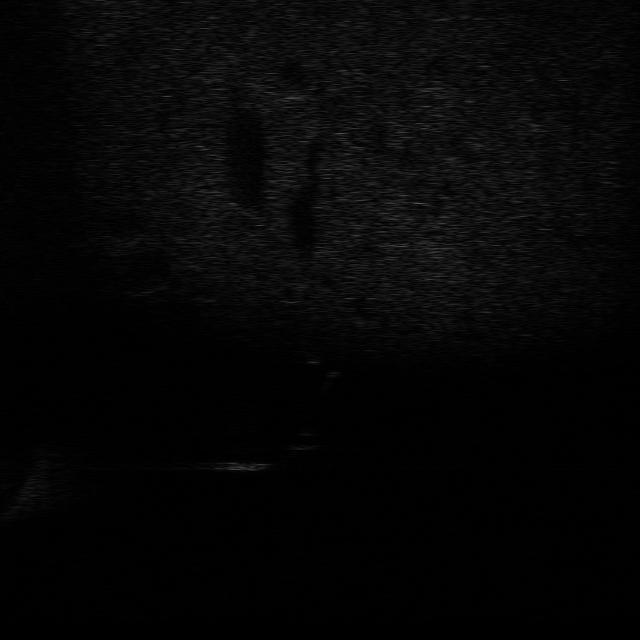ball: (284, 427, 320, 451)
human body: (300, 345, 346, 397)
square cage: (196, 452, 272, 478)
